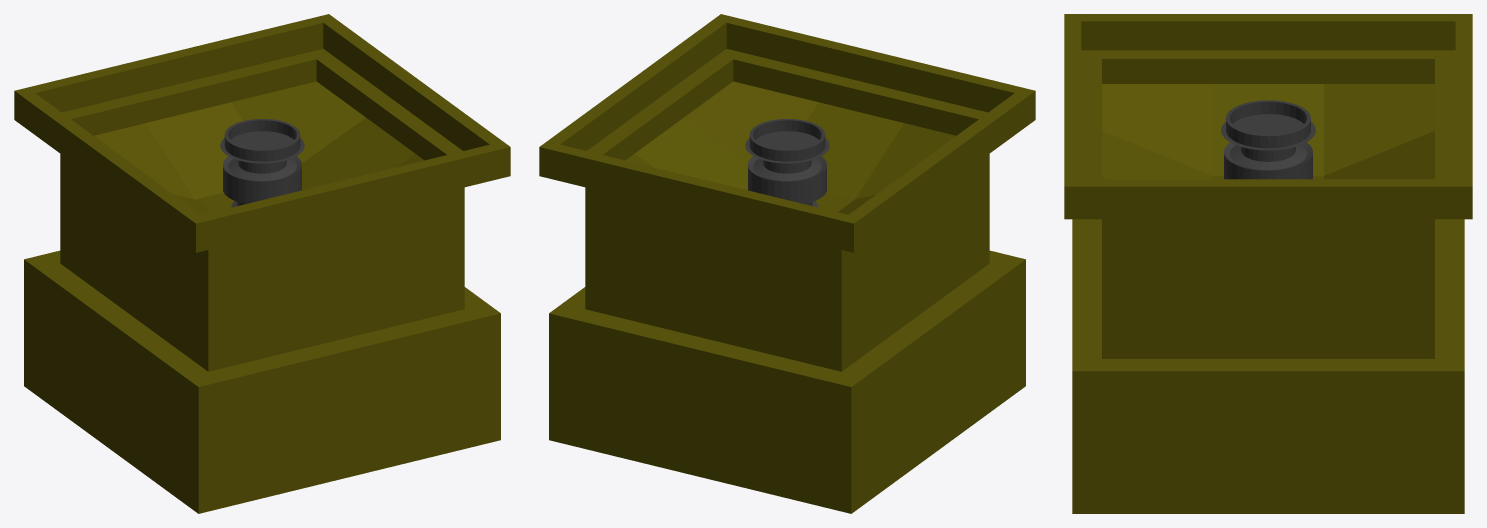
The model's file is skin_3_2.fbx.
3 renders of one model, left to right at view 1: azimuth 30°, elevation 25°; view 2: azimuth 150°, elevation 25°; view 3: azimuth 270°, elevation 25°, orthographic. The views are drawn at different scales.
Visible parts, largest first — view 1: Cylinder; view 2: Cylinder; view 3: Cylinder.
Part boxes in pixels (box(x1,y1,x2,y2)): Cylinder: box(14, 14, 510, 513); Cylinder: box(539, 14, 1035, 513); Cylinder: box(1064, 14, 1472, 513).
Bounding box in the file's own units: 245 × 219 × 245.
